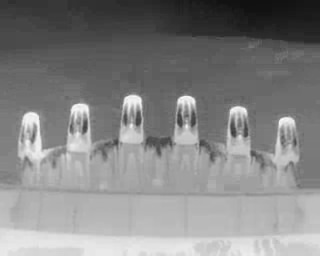claw: (119, 93, 146, 146), (67, 101, 93, 155), (225, 105, 251, 158), (175, 94, 200, 147), (17, 111, 43, 161), (275, 115, 299, 167)
